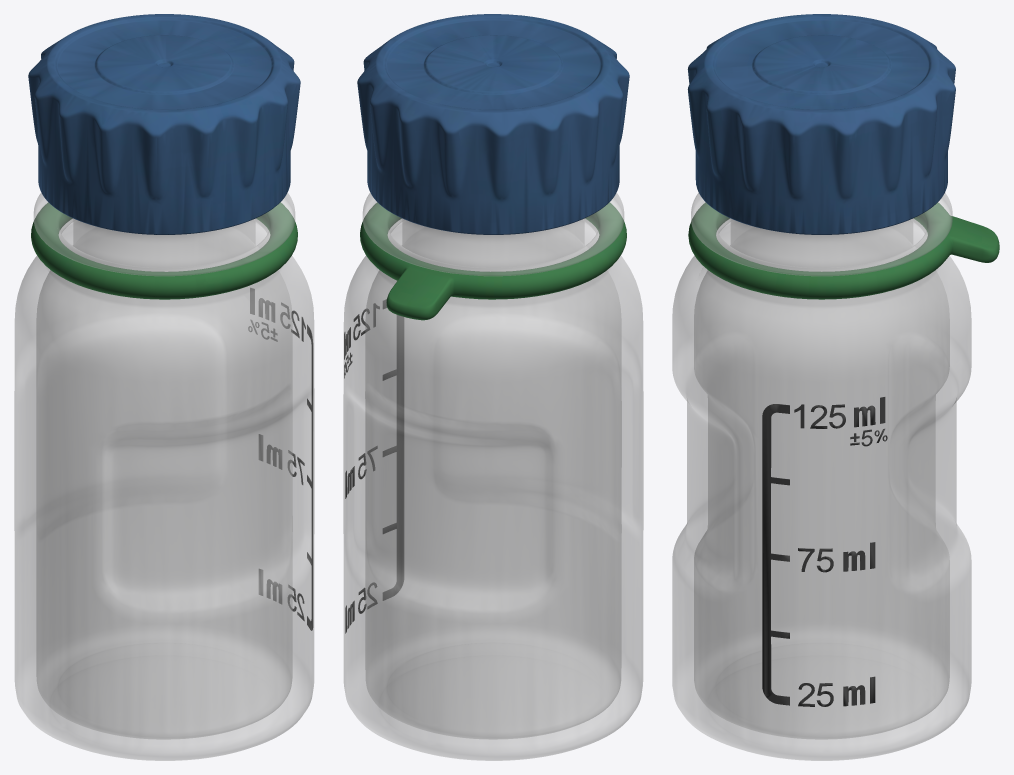
Rendered from bottle_laboratory_a01.glb.
3 views of the same model, side by side, from view 1: azimuth 30°, elevation 25°; view 2: azimuth 150°, elevation 25°; view 3: azimuth 270°, elevation 25° (orthographic).
Parts seen in each view (by area): view 1: body_01_mesh_00, cap_01_mesh_00, part_01_mesh_00; view 2: body_01_mesh_00, cap_01_mesh_00, part_01_mesh_00; view 3: body_01_mesh_00, cap_01_mesh_00, part_01_mesh_00.
Boxes of the visible parts, box(x1,y1,x2,y2) form: body_01_mesh_00: box(14, 193, 314, 760); cap_01_mesh_00: box(28, 14, 300, 234); part_01_mesh_00: box(31, 202, 313, 630); body_01_mesh_00: box(343, 193, 643, 760); cap_01_mesh_00: box(357, 14, 629, 234); part_01_mesh_00: box(344, 202, 626, 633); body_01_mesh_00: box(672, 193, 971, 760); cap_01_mesh_00: box(687, 14, 955, 234); part_01_mesh_00: box(688, 202, 999, 706).
Bounding box in the file's own units: 0.0604 × 0.1428 × 0.0661.
Materials: 4 (2 with a texture image).
